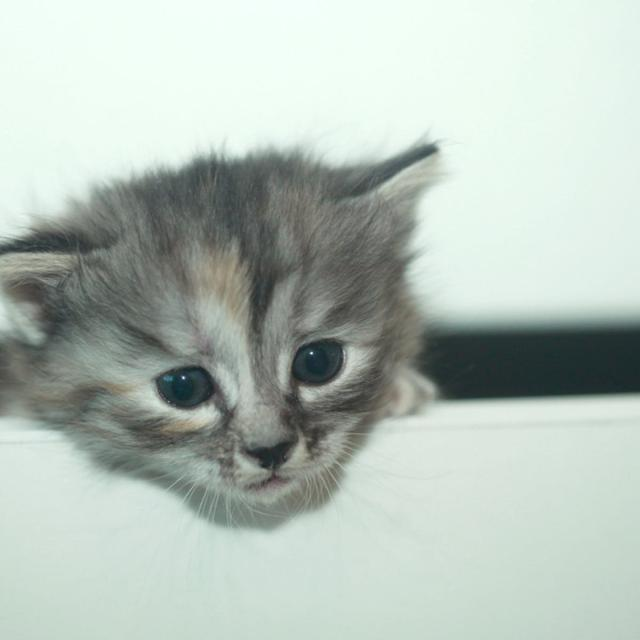cat: (60, 148, 407, 514)
